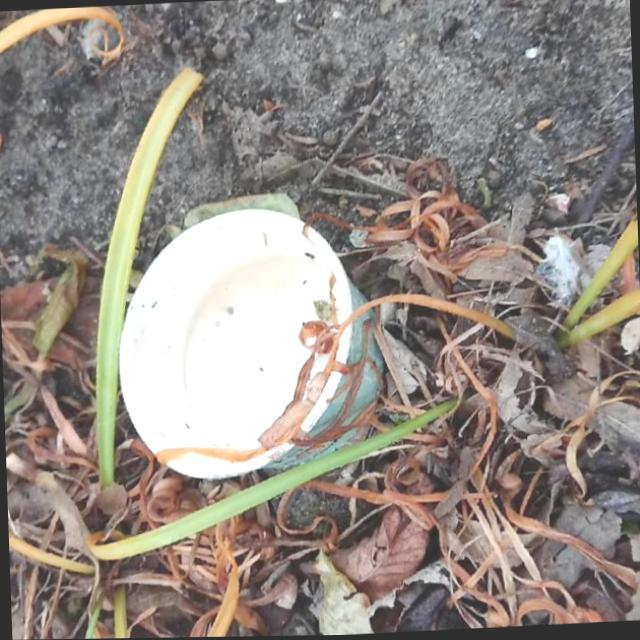Paper: (112, 200, 378, 490)
